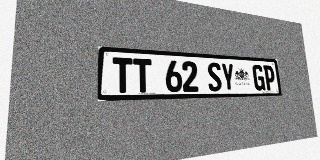2: (182, 61, 198, 92)
6: (165, 60, 183, 92)
G: (252, 65, 265, 91)
P: (263, 65, 276, 90)
S: (207, 62, 222, 91)
T: (113, 57, 133, 93), (133, 58, 152, 93)
Y: (221, 63, 235, 91)
